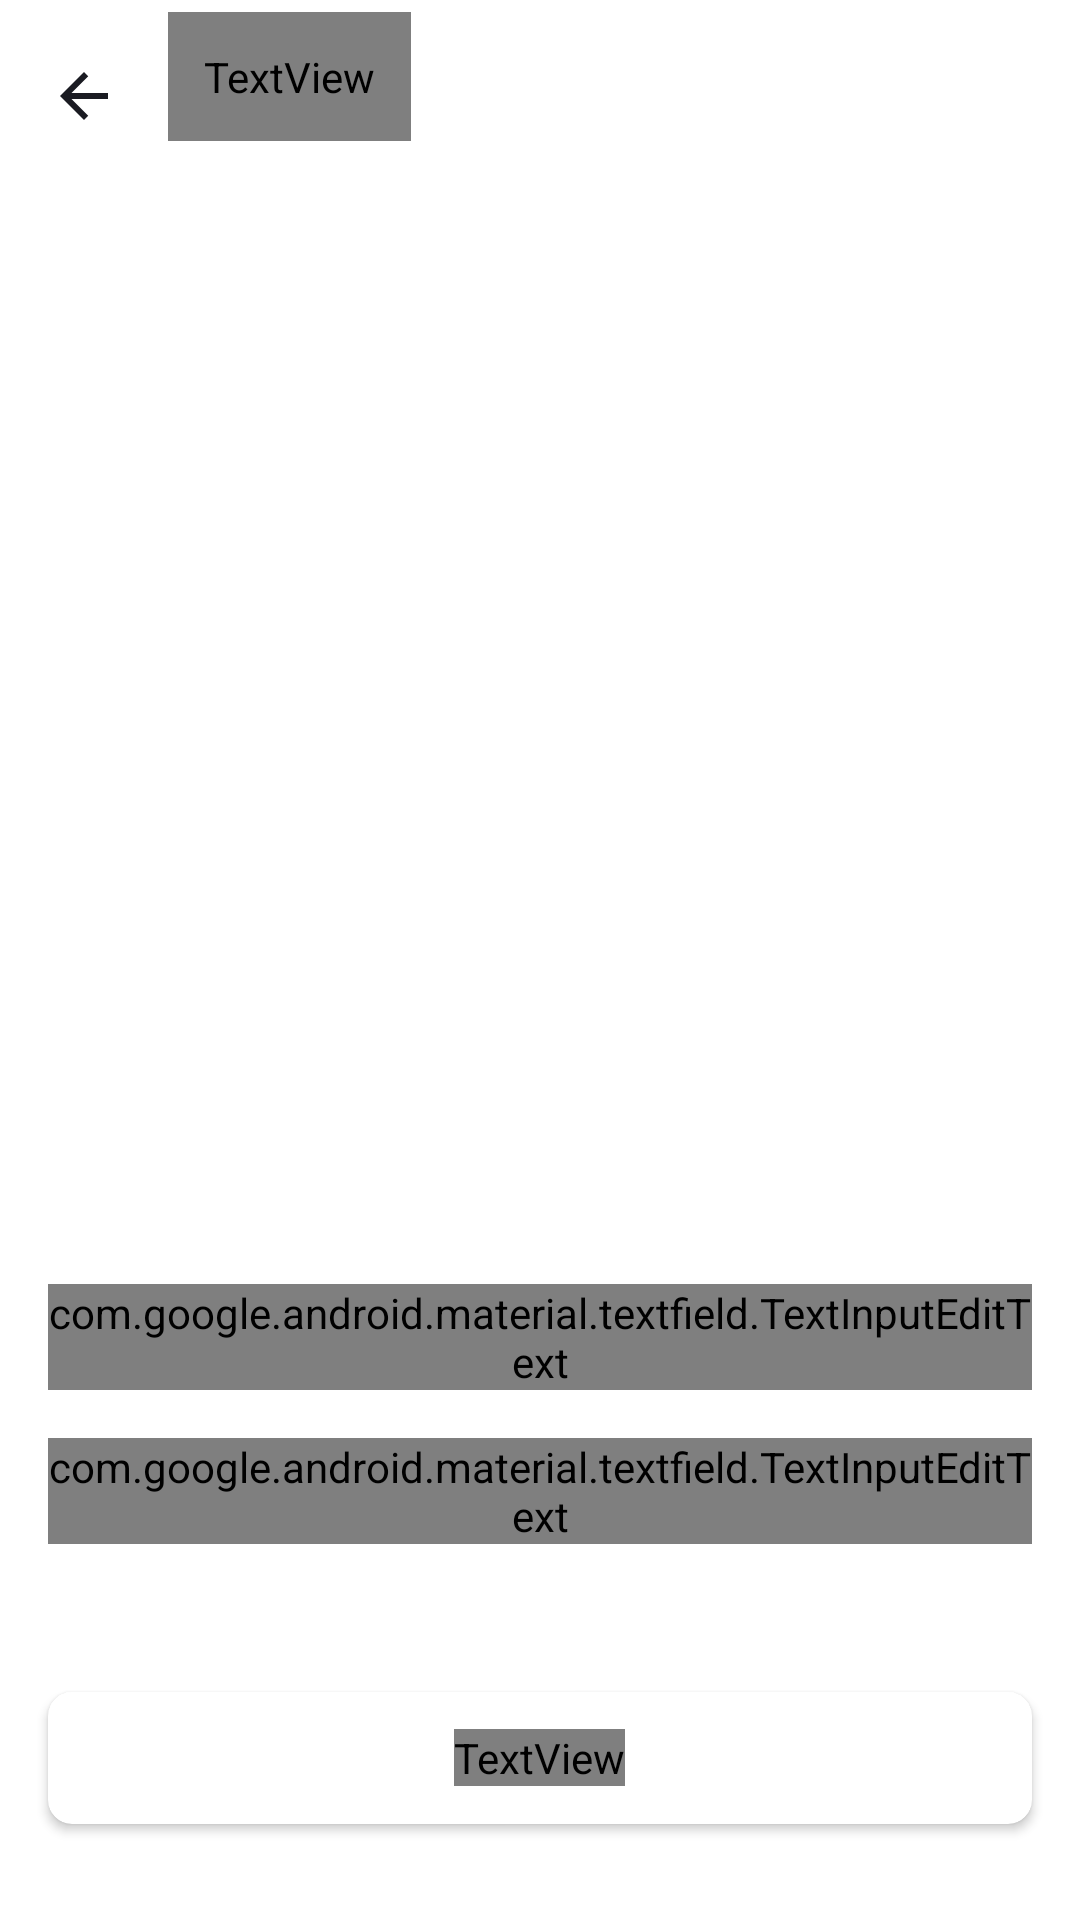

Screen size 1080px×1920px. Icon name, then its center in pixels as point (x, y):
arrow back: point (84, 96)
